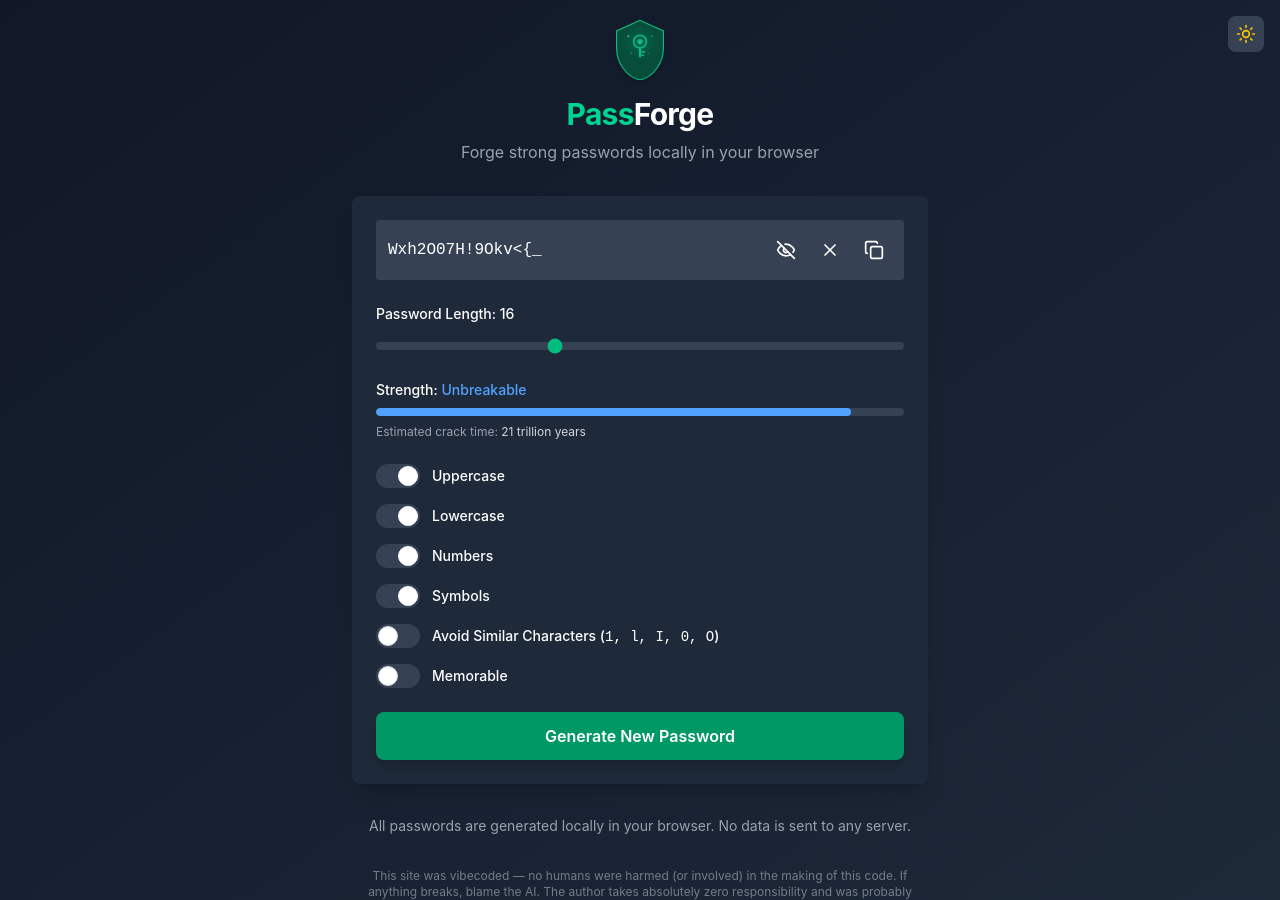
Test: App component › updates password length when slider changes
This screenshot has width=1280, height=900.
Set the slider to "24" at (725, 346), box [376,342,904,350]
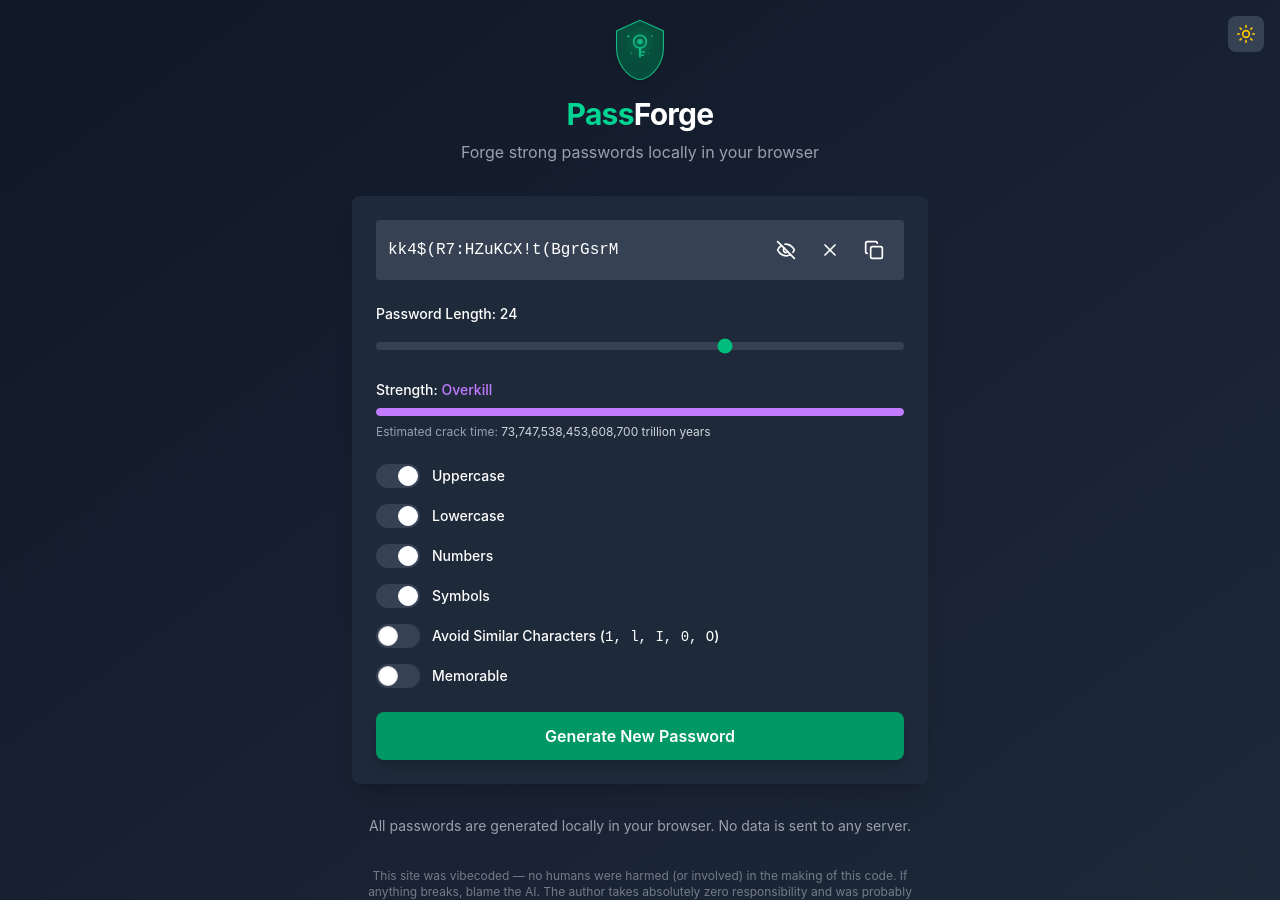
expect the text "Password Length: 24" is shown: met, box [376,304,517,324]
